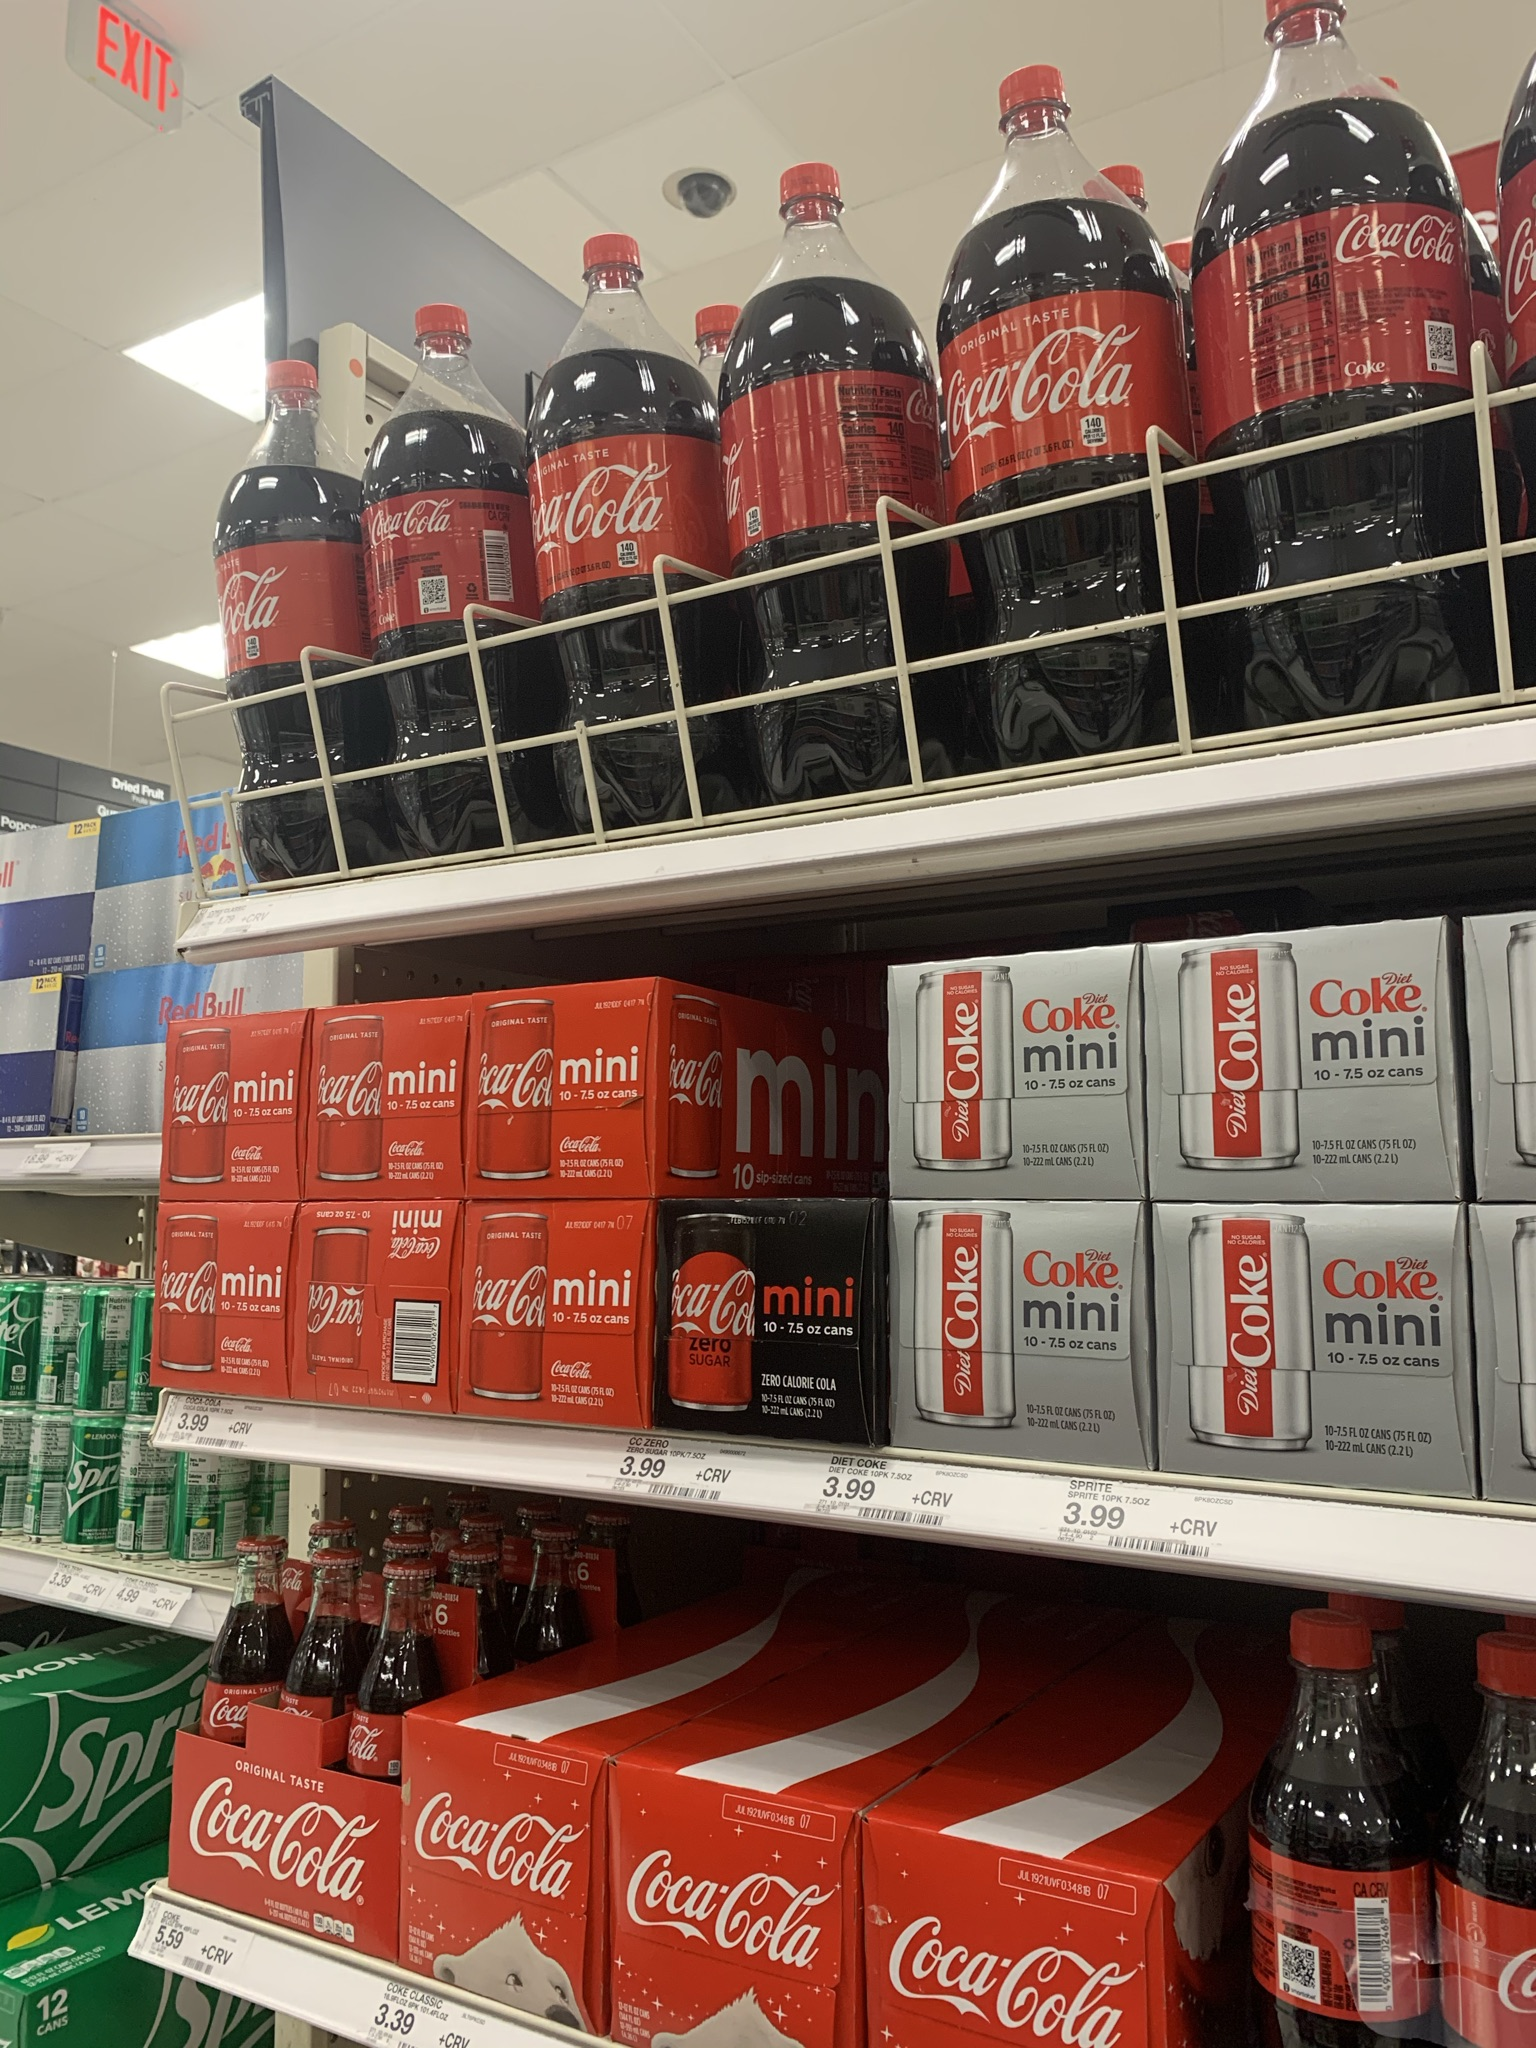coke soda: (1234, 29, 1512, 669), (952, 114, 1157, 643), (566, 266, 729, 869), (737, 185, 897, 766), (897, 1206, 1202, 1509), (1163, 1221, 1468, 1488), (1144, 934, 1444, 1200), (197, 1501, 387, 1906), (399, 324, 537, 860), (878, 1801, 1176, 2048), (611, 1743, 849, 2048), (247, 366, 379, 880), (474, 1001, 639, 1409), (307, 1024, 449, 1492), (697, 1188, 928, 1464), (411, 1701, 566, 2014), (937, 974, 1134, 1185), (177, 1024, 273, 1414)
